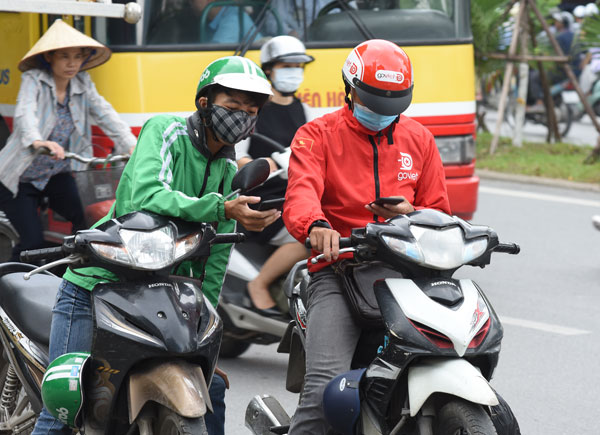dieu khien xe may: (308, 36, 499, 406)
su dung dien thoai: (342, 37, 412, 213)
